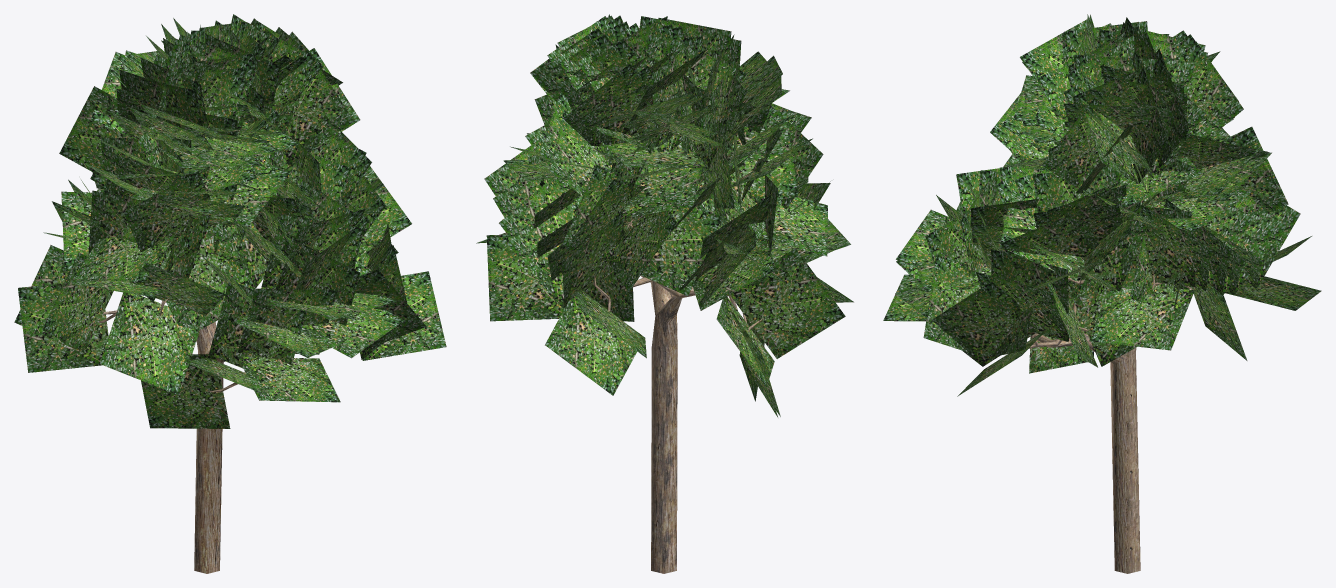
3 views of the same model, side by side, from view 1: azimuth 30°, elevation 25°; view 2: azimuth 150°, elevation 25°; view 3: azimuth 270°, elevation 25° (orthographic).
Visible parts, largest first — view 1: twig_001, tree_001; view 2: twig_001, tree_001; view 3: twig_001, tree_001.
Boxes of the visible parts, <box> form: twig_001: <box>14,14,446,428</box>; tree_001: <box>99,235,282,573</box>; twig_001: <box>476,14,853,417</box>; tree_001: <box>593,125,763,573</box>; twig_001: <box>883,14,1321,396</box>; tree_001: <box>987,267,1191,573</box>.
Bounding box in the file's own units: 4.04 × 4.49 × 6.12.
Materials: 2 (2 with a texture image).
